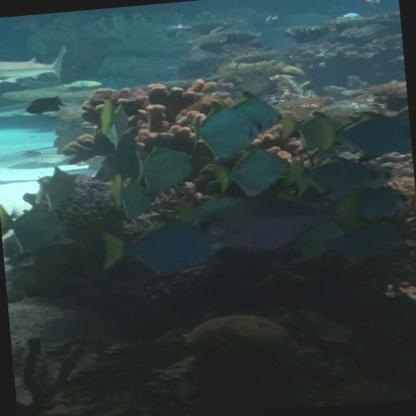fish: (93, 211, 233, 289), (192, 189, 324, 261), (202, 139, 289, 201), (327, 214, 412, 274), (298, 152, 400, 202), (186, 97, 262, 160), (0, 197, 81, 255), (328, 180, 416, 226), (326, 108, 404, 159), (19, 163, 93, 213), (122, 138, 193, 188), (101, 169, 159, 223), (287, 104, 349, 153), (224, 94, 287, 137), (93, 107, 140, 148), (376, 103, 410, 147), (157, 19, 197, 40), (352, 0, 394, 8), (259, 12, 281, 24)
shark: (0, 46, 70, 87)
